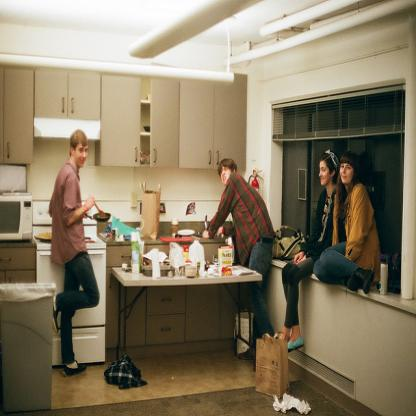backpack: (272, 225, 307, 261)
handbag: (102, 353, 146, 389)
